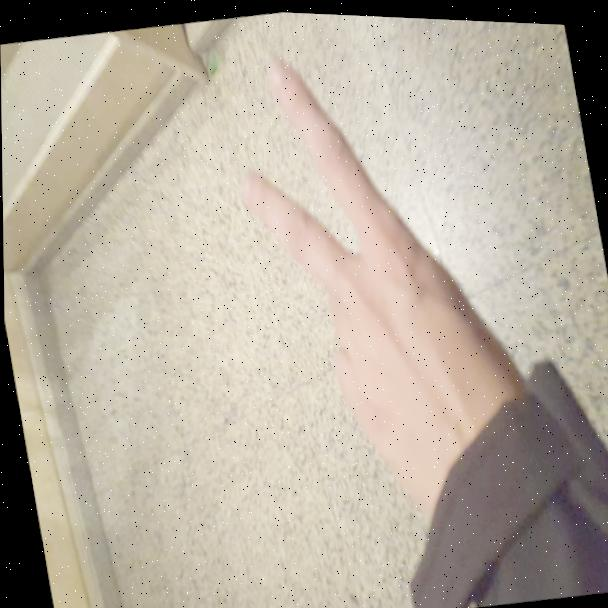two: (212, 21, 525, 518)
